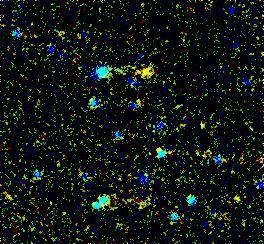star: (130, 57, 160, 87)
